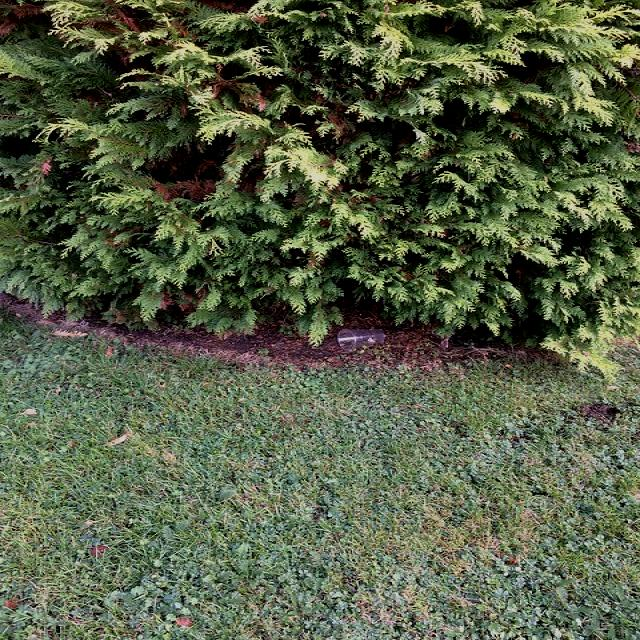Recycle: (338, 326, 386, 350)
